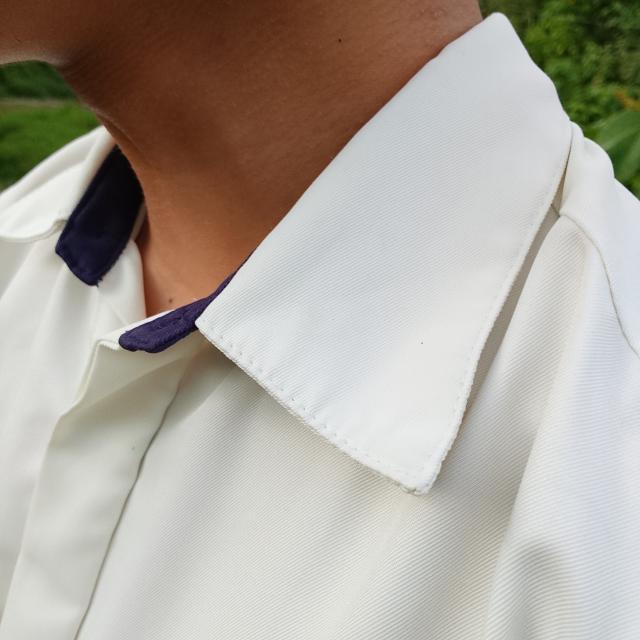education_male_uniform: (2, 62, 640, 497)
